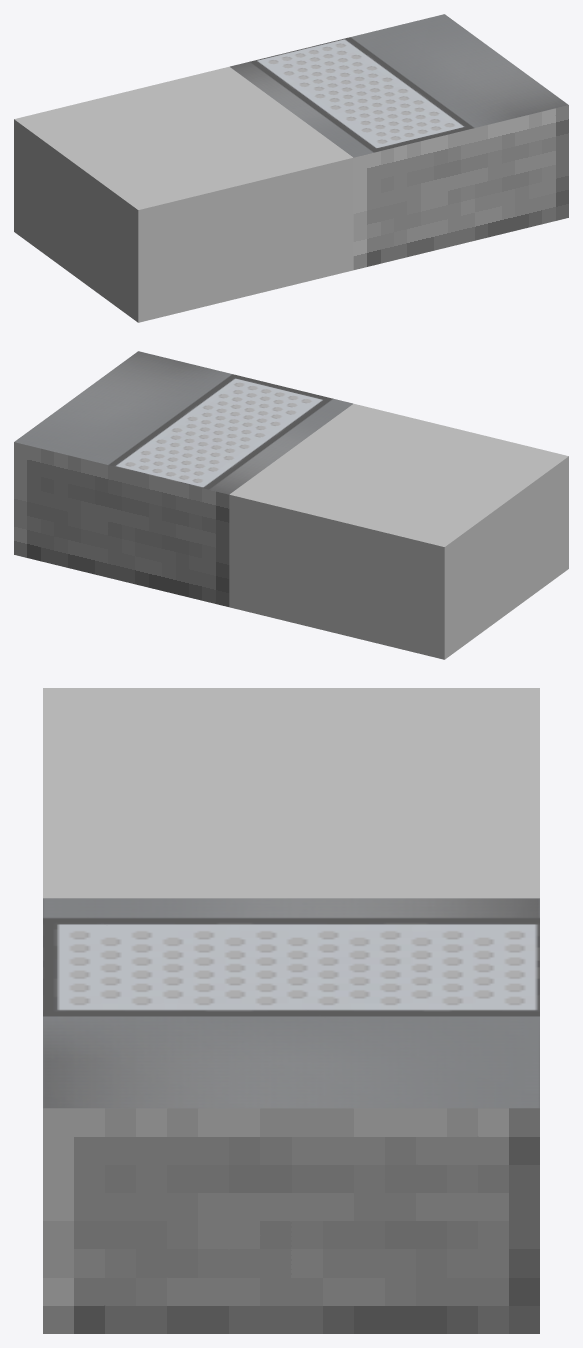
File: sncf_slab_platform_2.obj
3 views of the same model, one above another, from view 1: azimuth 30°, elevation 25°; view 2: azimuth 150°, elevation 25°; view 3: azimuth 270°, elevation 25° (orthographic). The views are drawn at different scales.
Visible parts, largest first — view 1: cube; view 2: cube; view 3: cube.
Boxes of the visible parts, x1=… form: cube: x1=14, y1=14, x2=568, y2=322; cube: x1=14, y1=351, x2=568, y2=659; cube: x1=43, y1=688, x2=539, y2=1333.
Bounding box in the file's own units: 2 × 0.5 × 1.
